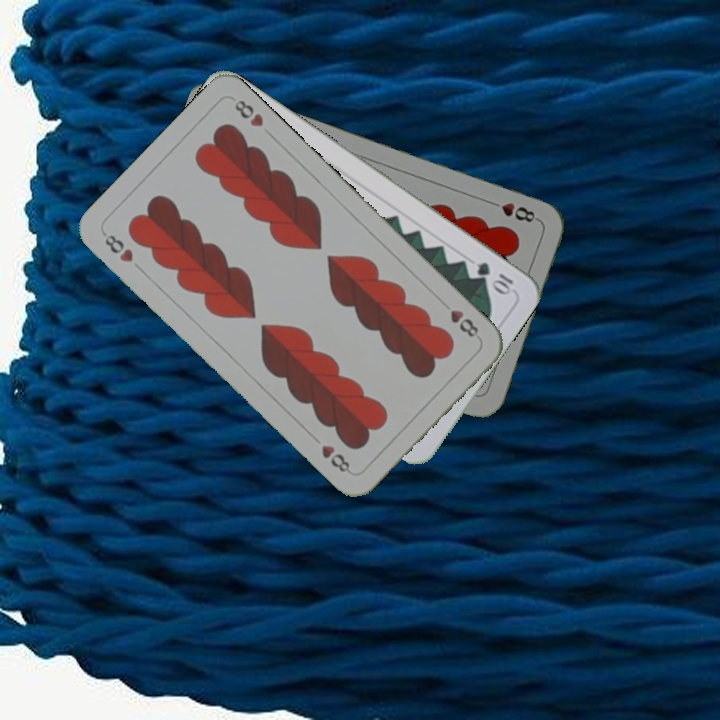G10: (472, 257, 518, 297)
H8: (484, 197, 542, 226), (98, 228, 136, 265), (446, 305, 481, 340)
